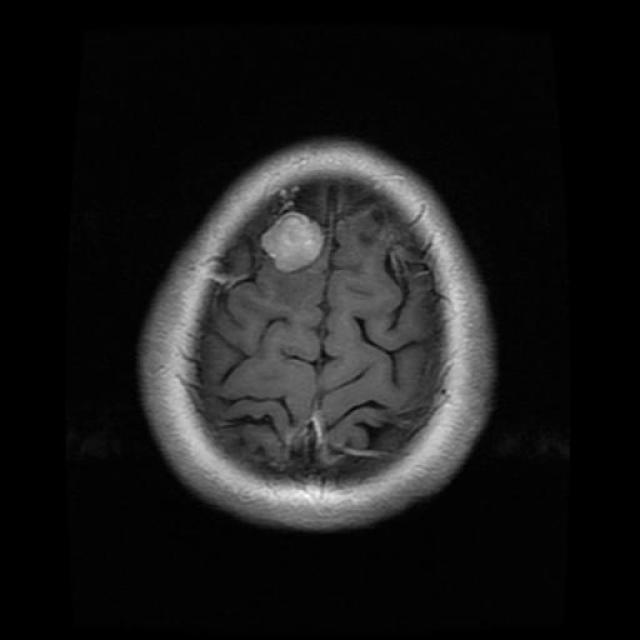meningioma: (261, 212, 324, 274)
